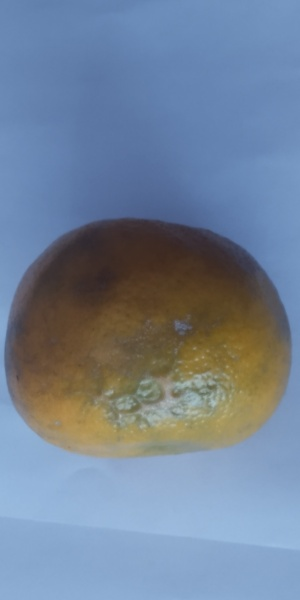BAD: (6, 216, 295, 456)
